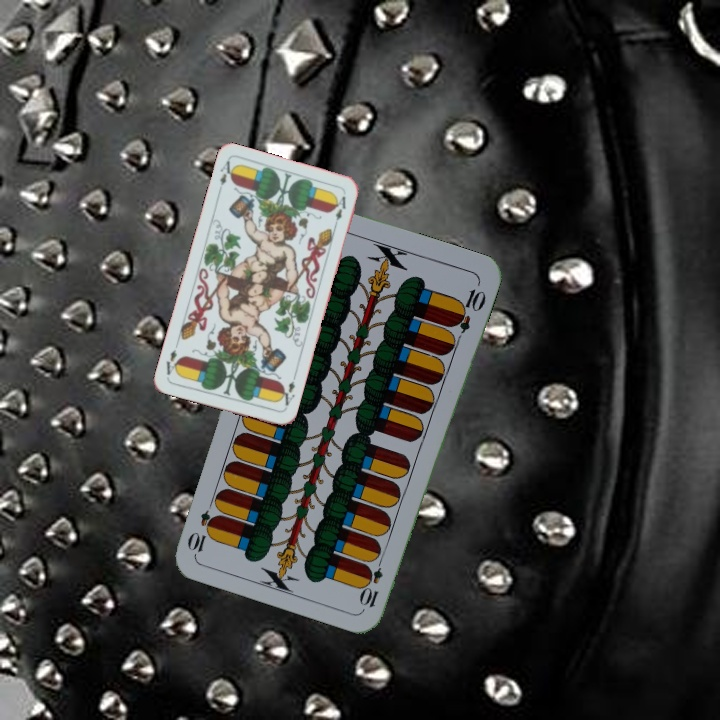E10: (358, 551, 386, 610)
EA: (276, 372, 298, 412), (216, 157, 237, 188)
